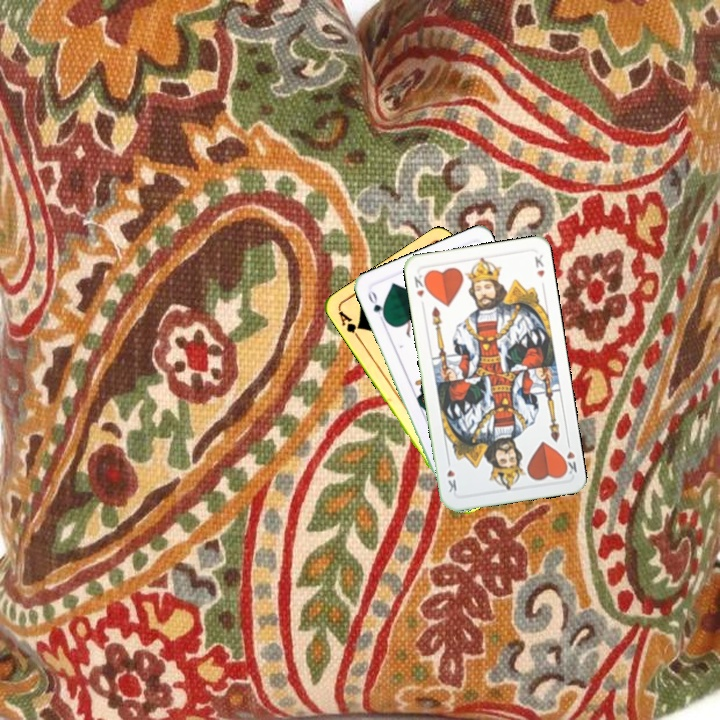GA: (334, 307, 364, 343)
GO: (364, 286, 389, 325)
HK: (558, 437, 580, 477), (410, 271, 431, 300)
